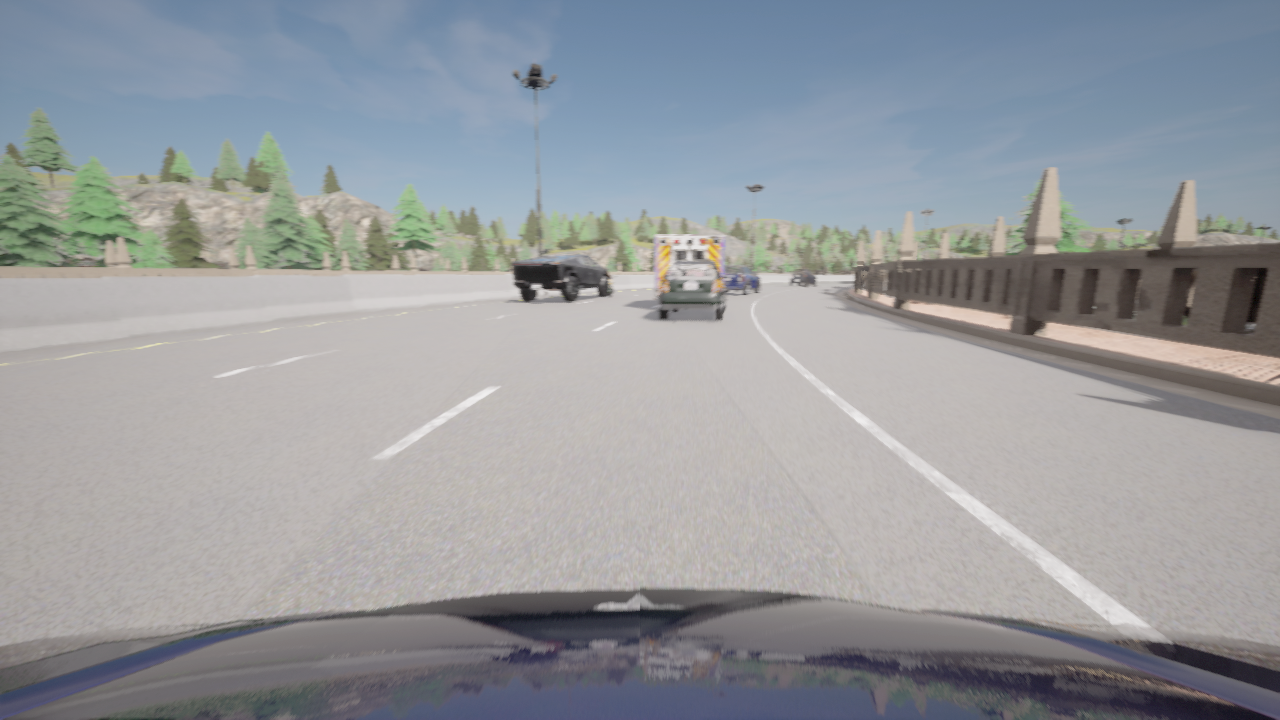cyclist: (0, 588, 1279, 719), (512, 254, 610, 301), (654, 234, 724, 298), (658, 260, 728, 320), (724, 264, 759, 295), (789, 270, 816, 285), (609, 276, 612, 294)
